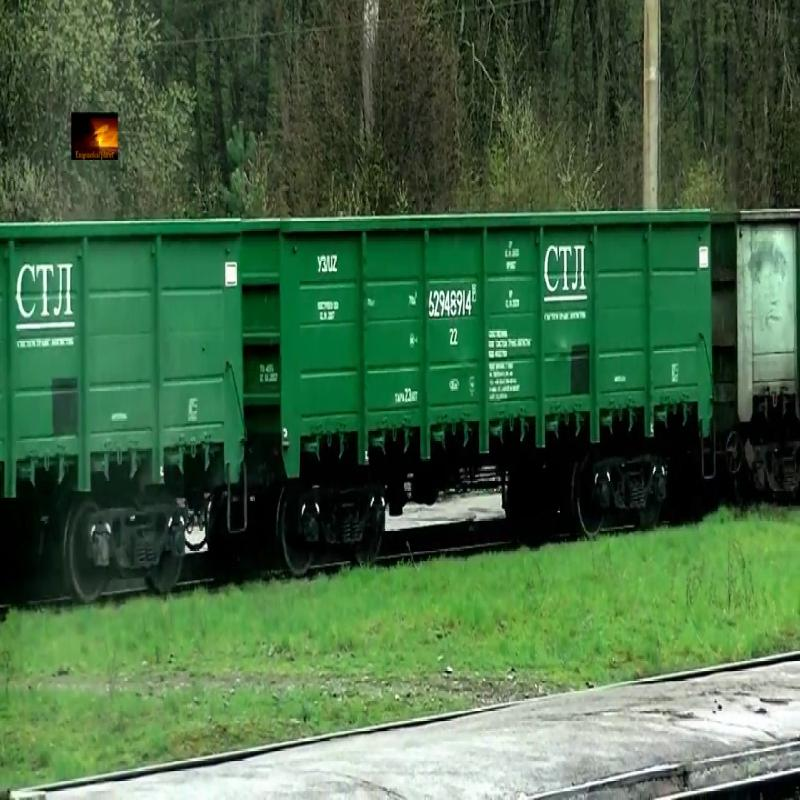train: (245, 213, 712, 482), (1, 220, 248, 516), (711, 209, 799, 427)
